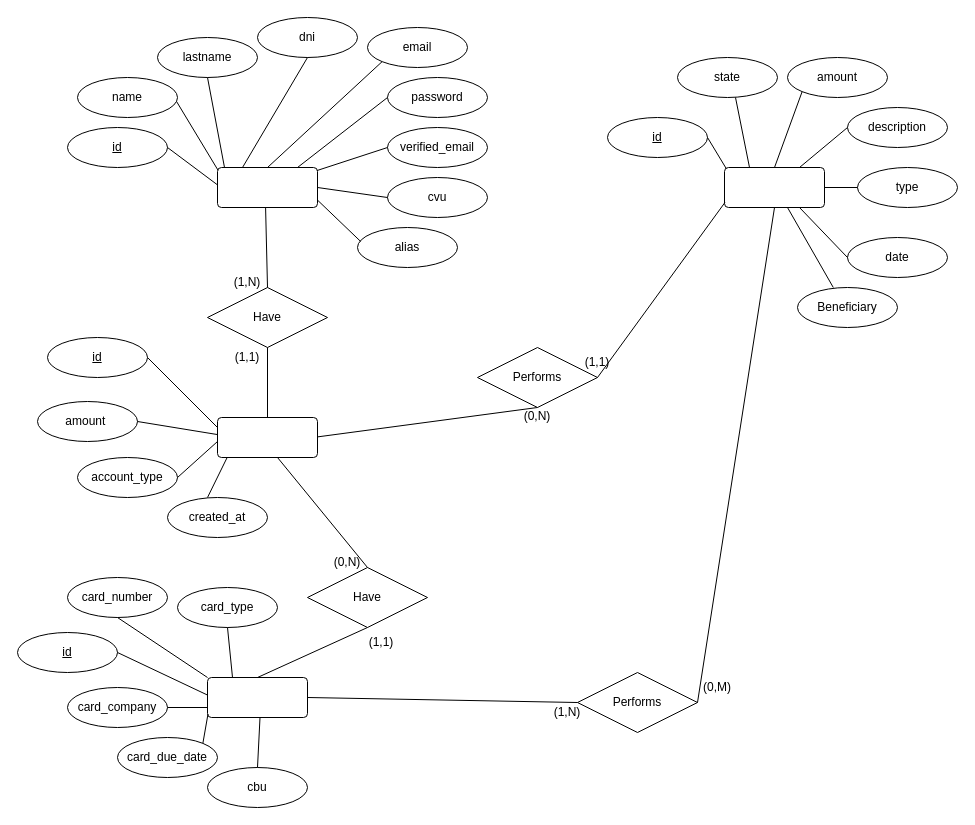
The diagram is 975 pixels wide and 825 high, and some of its shapes have lost their labels. Here are the shapes that lost their labels. From the top down, the centre of each, then its label:
At (x=267, y=187): "User".
At (x=774, y=187): "Transaction".
At (x=267, y=437): "Account".
At (x=257, y=697): "Card".
